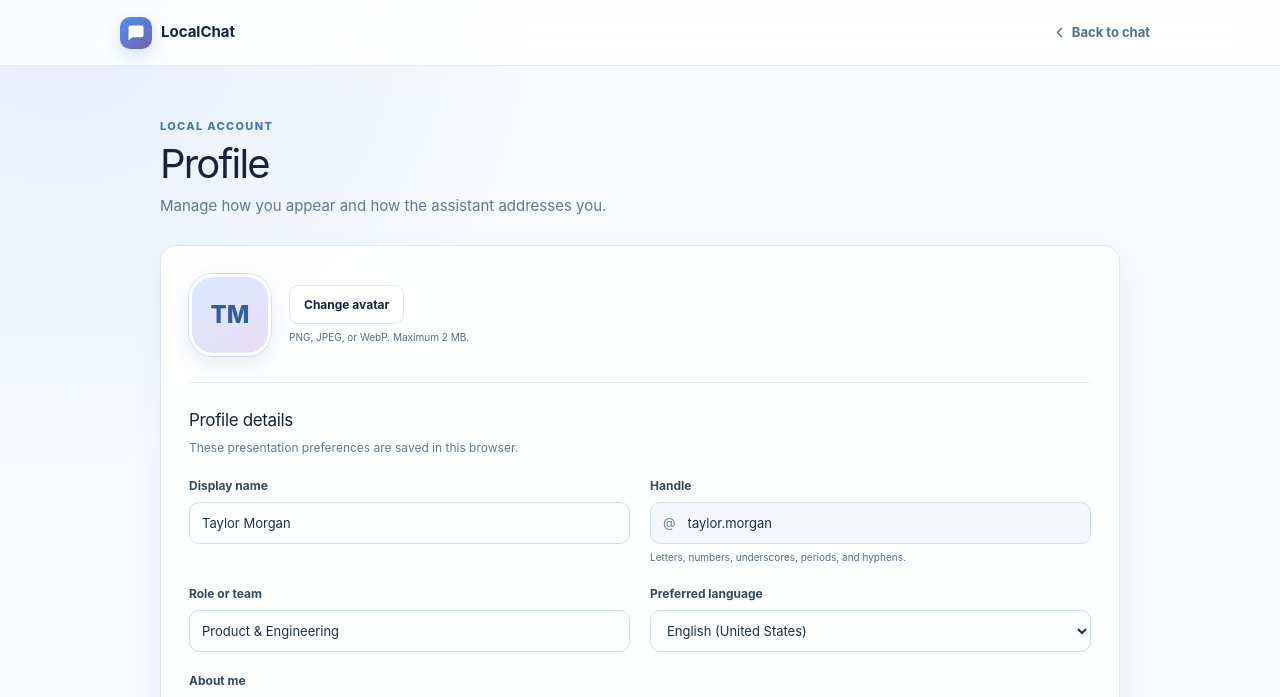
ProfilePage › validates edits, tracks dirty state, resets, and saves successfully
Clear the field labelled "Display name" at [410, 523], box [189,502,630,544]
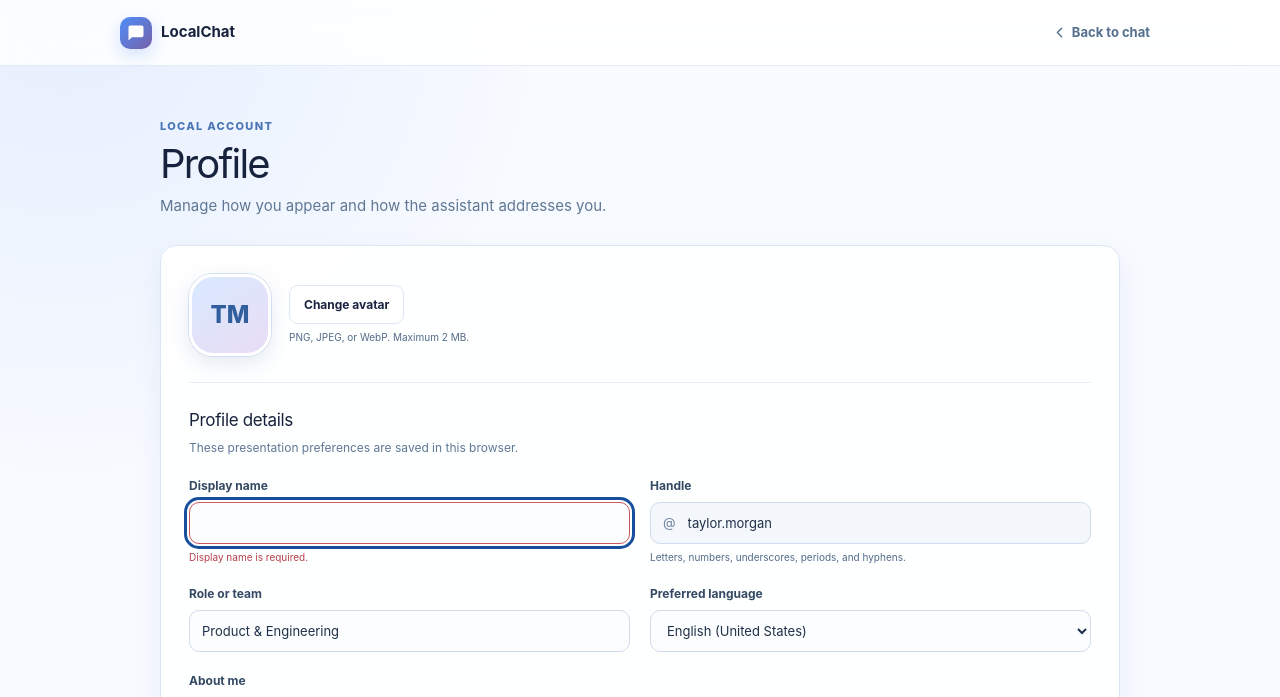
Result: the text "Display name is required." is shown at [189,551,308,563]
Type "Morgan Lee" into the field labelled "Display name".
click(410, 523); type("Morgan Lee")  # box [189,502,630,544]
Replace the text in the field labelled "Handle" with "not allowed!" at [883, 523], box [676,502,1090,544]
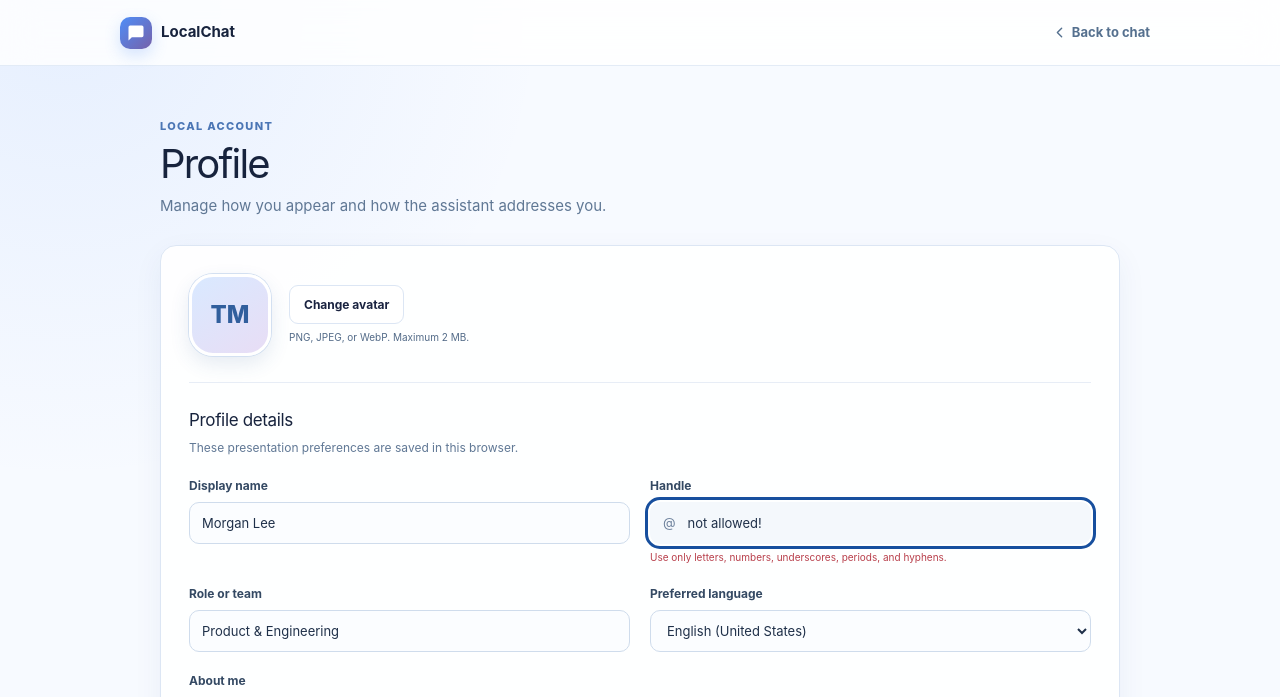
Result: the text "Use only letters" is shown at [650,551,947,563]
Replace the text in the field labelled "Handle" with "morgan_lee" at [883, 523], box [676,502,1090,544]
(page scrolled)
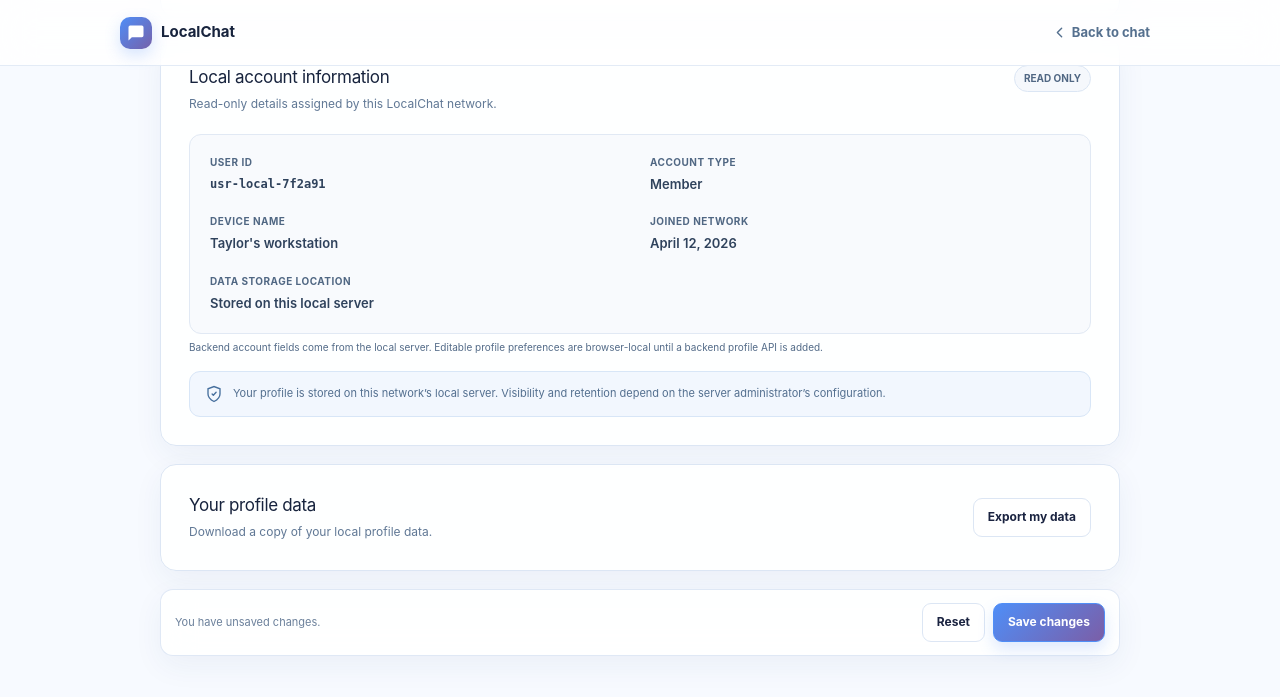
Result: the button "Save changes" is enabled at [993,603,1105,642]
Click the button "Reset".
click(953, 622)  # box [922,603,985,642]
(page scrolled)
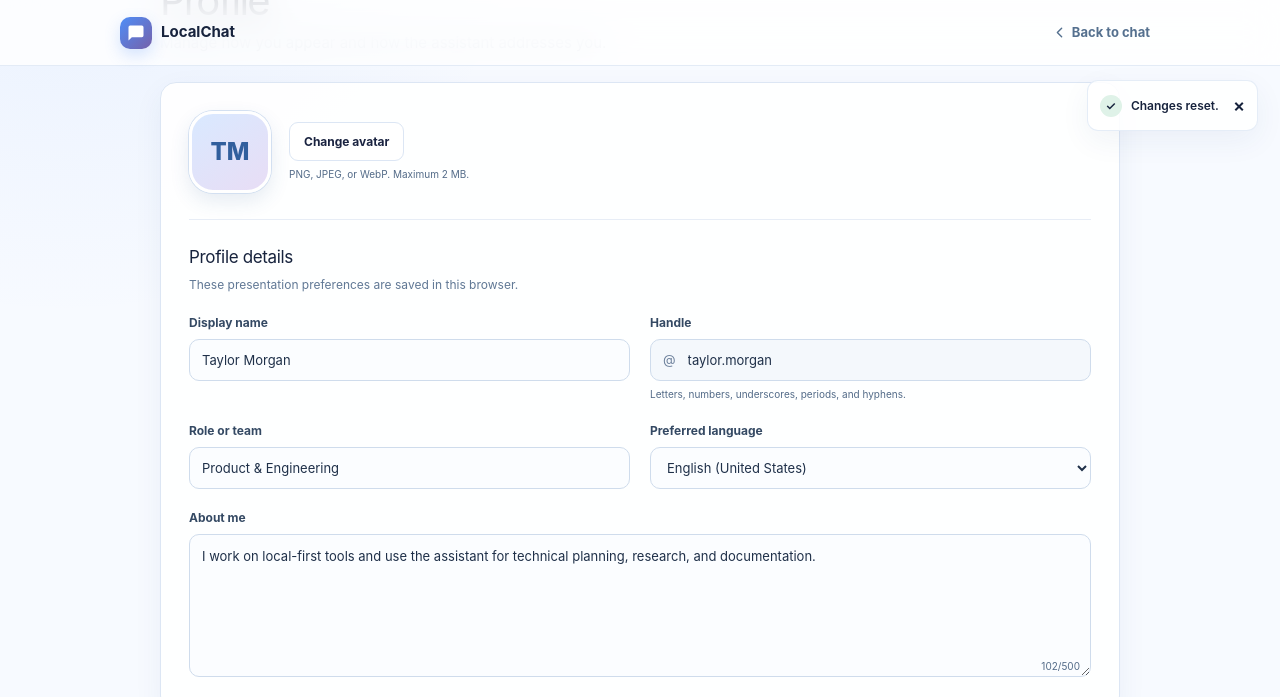
Result: the field labelled "Display name" holds "Taylor Morgan"
Replace the text in the field labelled "Display name" with "Morgan Lee" at [410, 360], box [189,339,630,381]
(page scrolled)
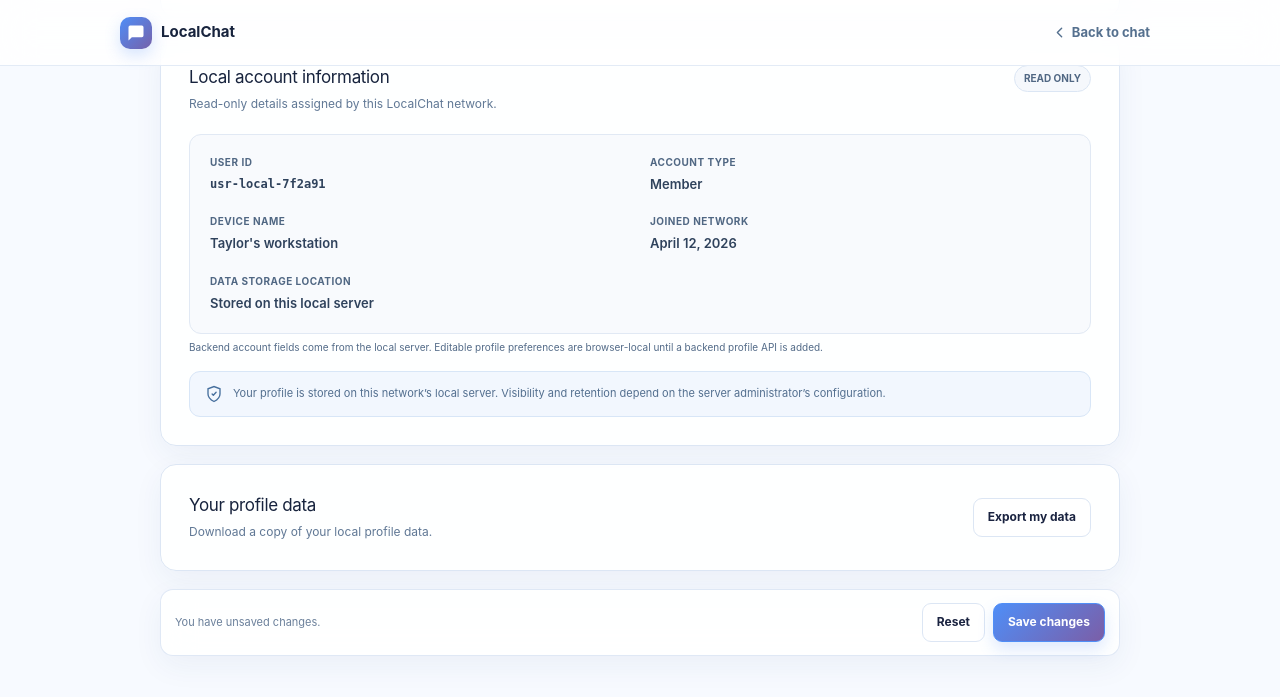
Click the button "Save changes".
click(1049, 622)  # box [993,603,1105,642]
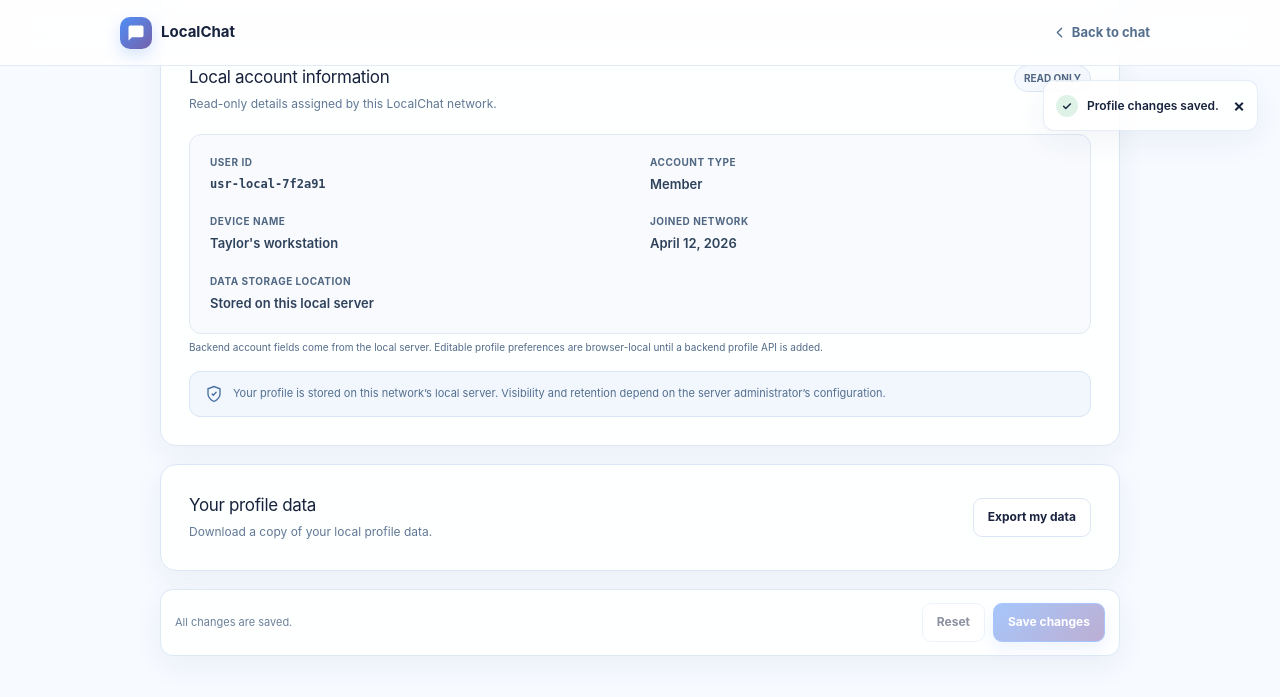
Result: the message shows "Profile changes saved." at [1087,98,1219,112]
Result: the button "Save changes" is disabled at [993,603,1105,642]
